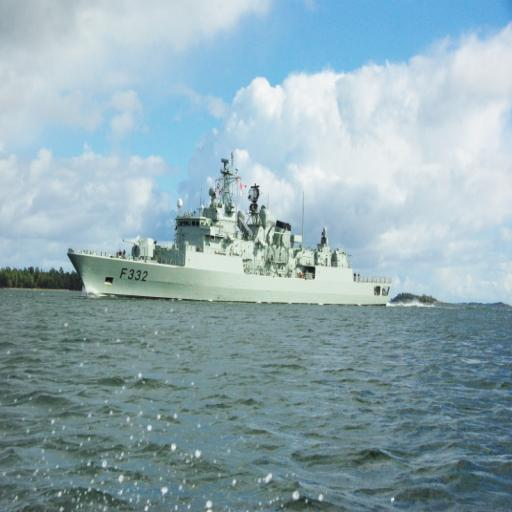Fragata: (68, 151, 394, 309)
